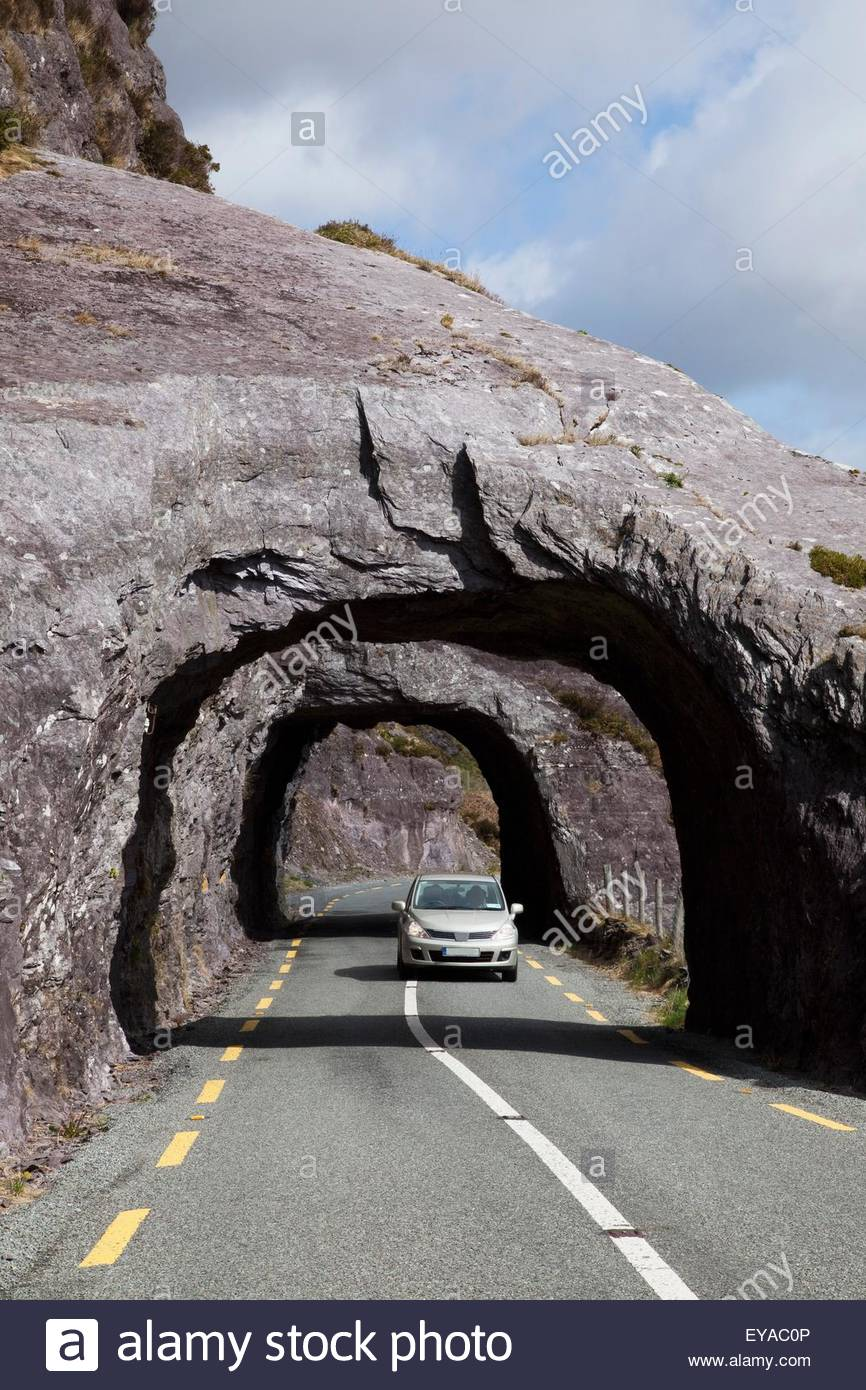bridge: (10, 456, 798, 1070)
